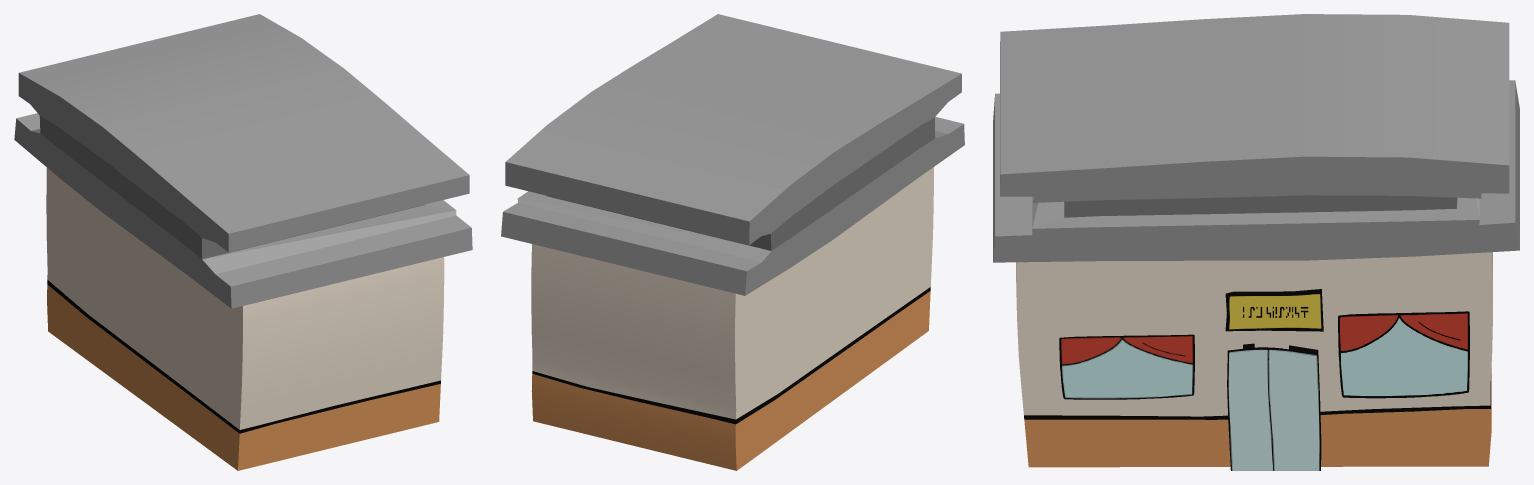
File: Building 5.fbx
The picture shows the model from 3 angles, left to right: view 1: azimuth 30°, elevation 25°; view 2: azimuth 150°, elevation 25°; view 3: azimuth 270°, elevation 25°; orthographic projection. The views are drawn at different scales.
Parts seen in each view (by area): view 1: Roof 2, Building 2; view 2: Roof 2, Building 2; view 3: Roof 2, Building 2, Plane, Plane.003, Plane.002, Plane.001.
Boxes of the visible parts, x1,y1,x2,y2 form: Roof 2: (14,14,472,308); Building 2: (46,168,444,470); Roof 2: (501,14,964,295); Building 2: (531,167,933,470); Roof 2: (993,14,1519,262); Building 2: (1016,252,1492,467); Plane: (1227,343,1321,470); Plane.003: (1338,311,1469,398); Plane.002: (1059,334,1194,399); Plane.001: (1225,289,1323,331).
Bounding box in the file's own units: 240 × 252 × 374.
